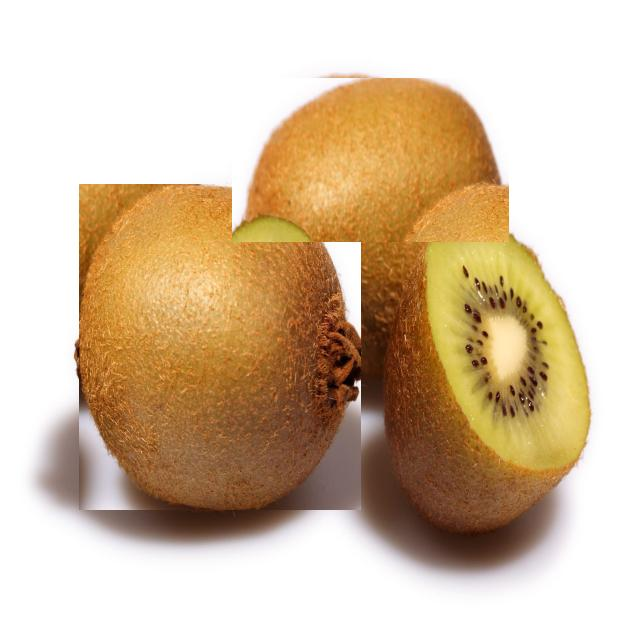Qiwi: (79, 184, 361, 510), (377, 226, 607, 546), (232, 78, 509, 242)
